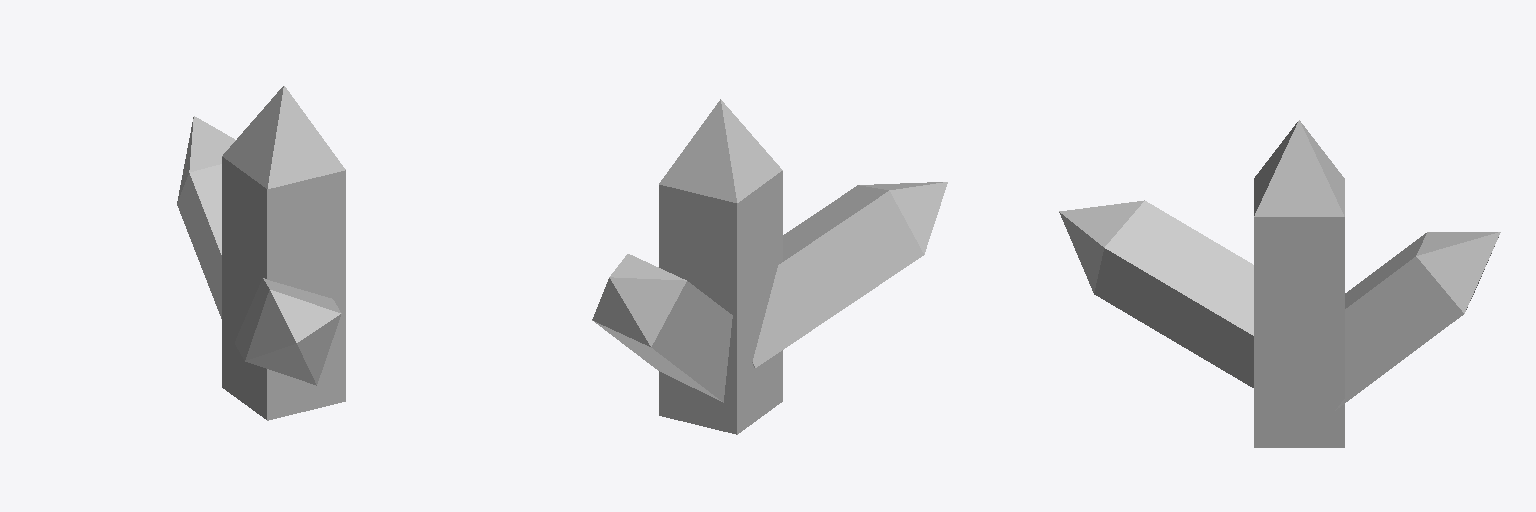
The model's file is triple_shard.obj.
3 renders of one model, left to right at view 1: azimuth 30°, elevation 25°; view 2: azimuth 150°, elevation 25°; view 3: azimuth 270°, elevation 25°, orthographic.
Parts seen in each view (by area): view 1: Cube.001, Cube.003, Cube.002; view 2: Cube.001, Cube.003, Cube.002; view 3: Cube.001, Cube.003, Cube.002.
Part boxes in pixels (x1,y1,x2,y2): Cube.001: (222,86,345,420); Cube.003: (235,278,341,385); Cube.002: (177,116,235,318); Cube.001: (659,99,782,434); Cube.003: (752,182,947,367); Cube.002: (592,254,732,402); Cube.001: (1254,120,1344,447); Cube.003: (1059,200,1253,387); Cube.002: (1335,232,1500,410).
Size of the model in its own units: 0.4323 by 0.7635 by 0.9881.